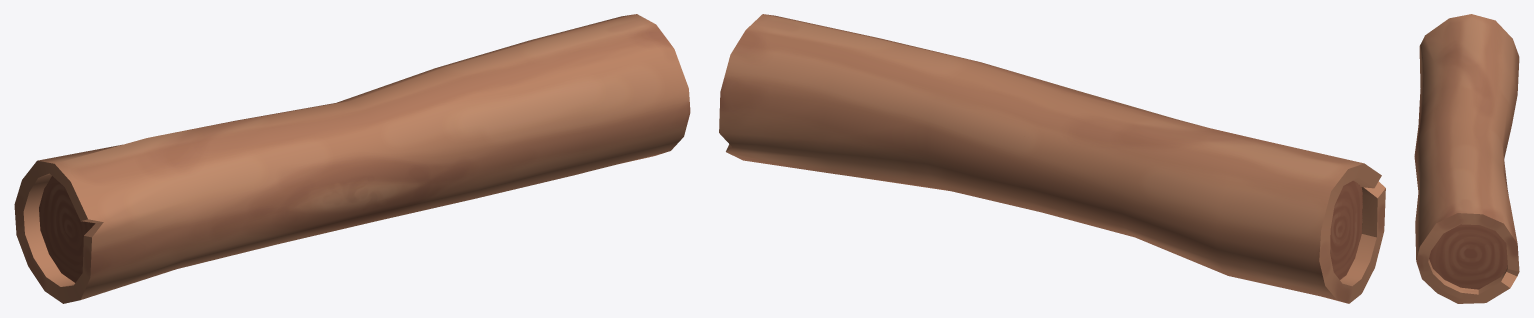
The model's file is Log.fbx.
The picture shows the model from 3 angles, left to right: view 1: azimuth 30°, elevation 25°; view 2: azimuth 150°, elevation 25°; view 3: azimuth 270°, elevation 25°; orthographic projection. The views are drawn at different scales.
Parts seen in each view (by area): view 1: Cylinder; view 2: Cylinder; view 3: Cylinder.
Boxes of the visible parts, left/top/right/bottom form: Cylinder: left=14, top=14, right=690, bottom=303; Cylinder: left=719, top=14, right=1385, bottom=303; Cylinder: left=1414, top=14, right=1519, bottom=303.
Size of the model in its own units: 820 by 174 by 177.
